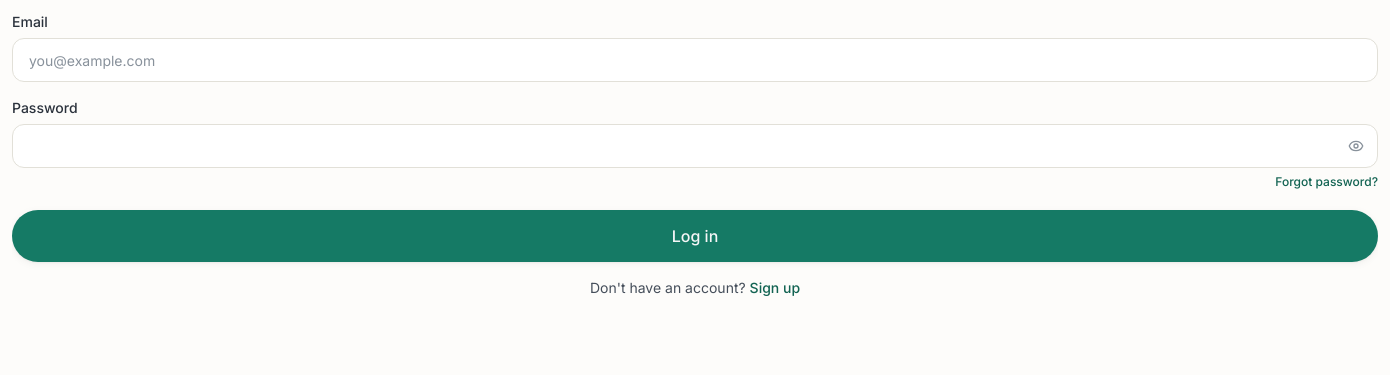
Test: LoginForm › shows the real 401 error message on invalid credentials, not a raw error dump
In the field labelled "Email": (695, 60) [12,38,1378,82], type "user@example.com"
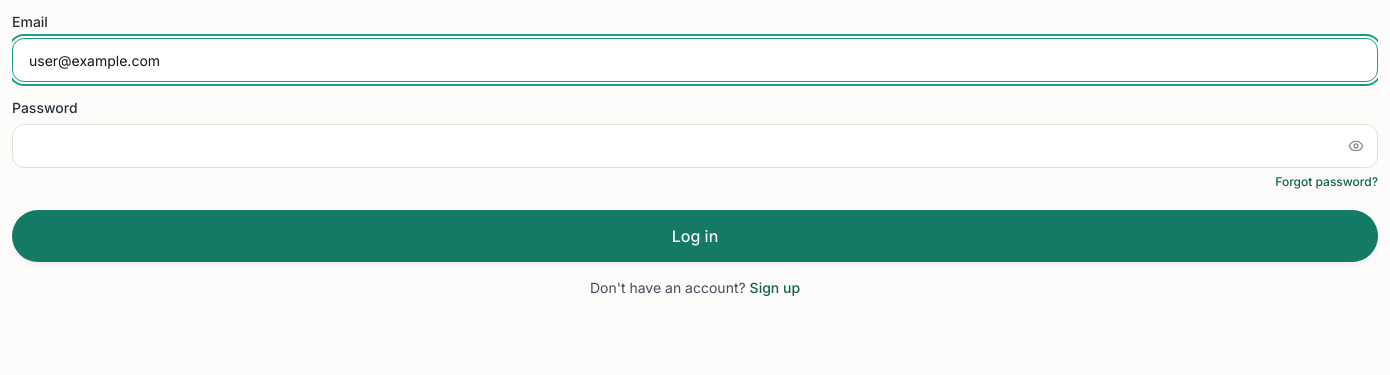
In the password field labelled "Password": (695, 146) [12,124,1378,168], type "wrong"
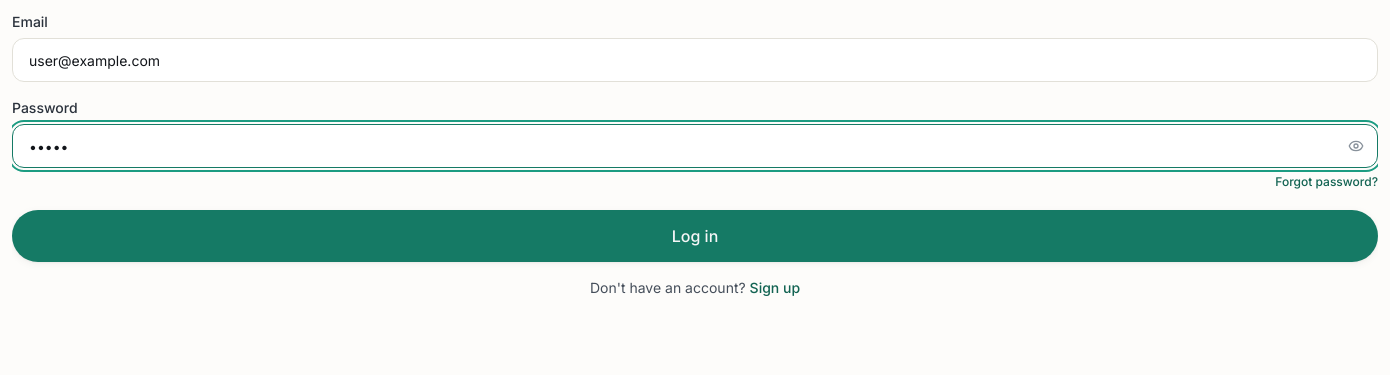
Click the button "Log in": (695, 236) [12,210,1378,262]
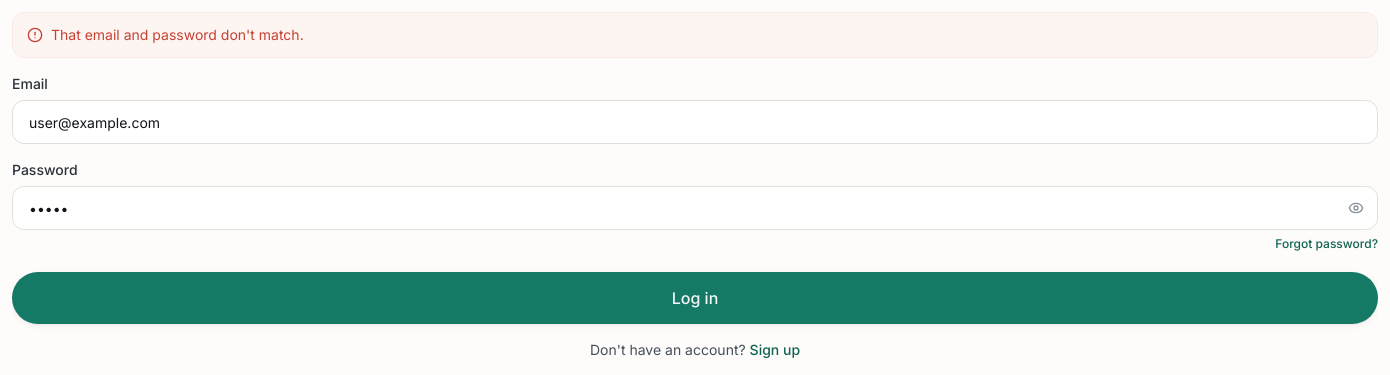
Expected: the message shows "don't match", [51,26,304,43]
